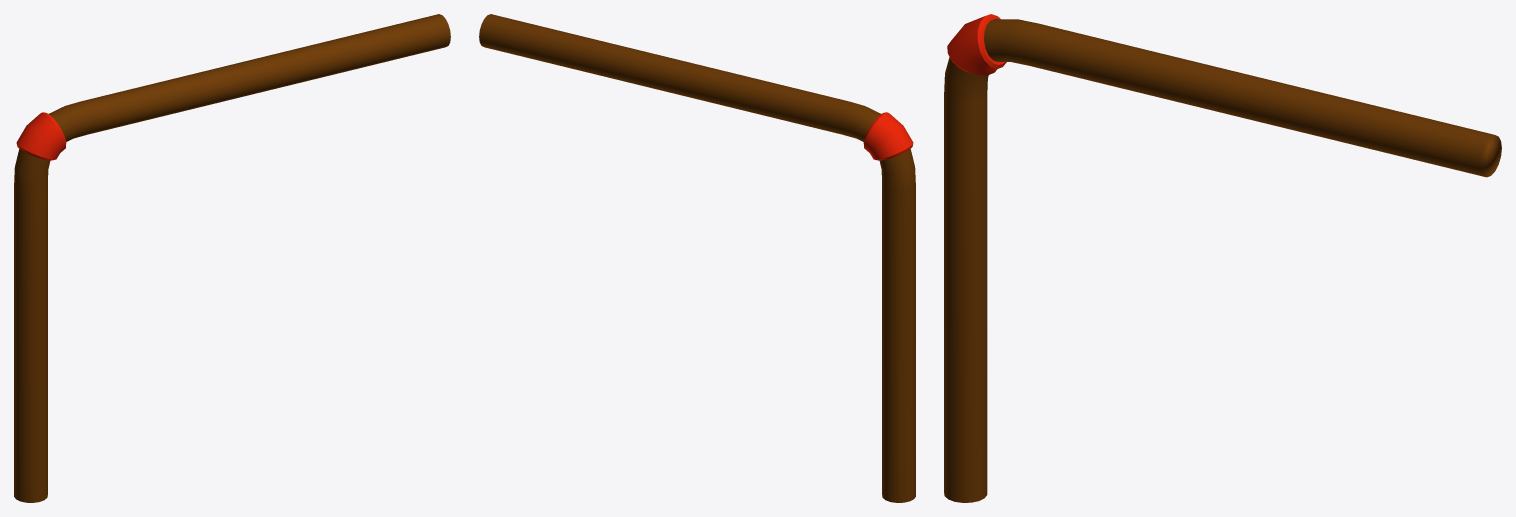
Rendered from Rail_End.fbx.
3 renders of one model, left to right at view 1: azimuth 30°, elevation 25°; view 2: azimuth 150°, elevation 25°; view 3: azimuth 330°, elevation 25°, orthographic. The views are drawn at different scales.
Visible parts, largest first — view 1: Rail_End; view 2: Rail_End; view 3: Rail_End.
Part boxes in pixels (bbox=[...]): Rail_End: bbox=[14, 14, 450, 502]; Rail_End: bbox=[479, 14, 915, 502]; Rail_End: bbox=[944, 14, 1501, 502].
Bounding box in the file's own units: 1.08 × 0.9245 × 0.0974.
